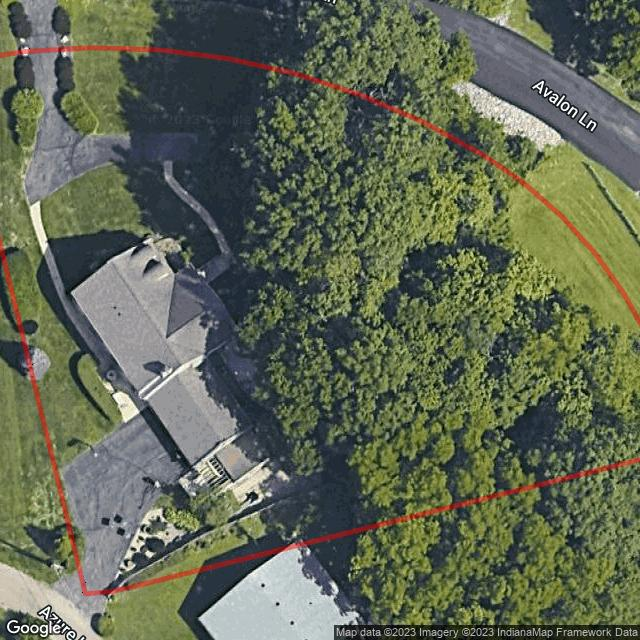Driveway: (25, 51, 230, 380), (64, 369, 193, 592)
Extra Driveway: (13, 0, 61, 49), (48, 574, 106, 603)
Extra Lawn: (57, 0, 640, 316), (0, 258, 76, 587)
House: (71, 236, 291, 506)
Other: (114, 485, 212, 591)
